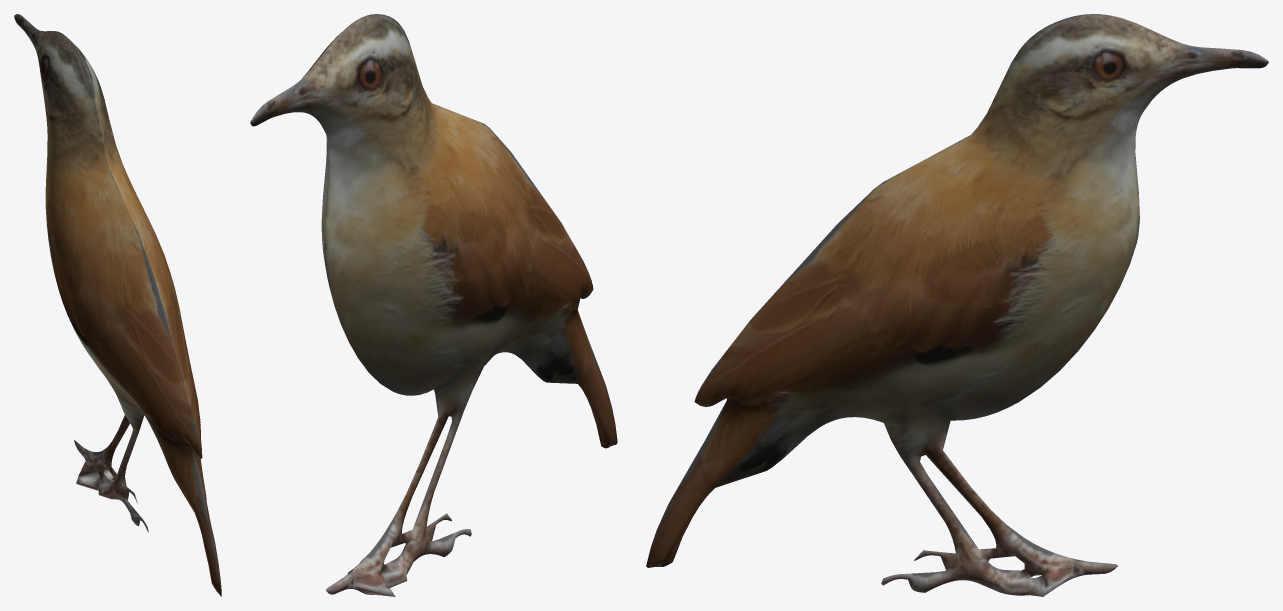
The model's file is 1200-removebg-preview.gltf.
3 views of the same model, side by side, from view 1: azimuth 30°, elevation 25°; view 2: azimuth 150°, elevation 25°; view 3: azimuth 270°, elevation 25° (orthographic). The views are drawn at different scales.
Parts seen in each view (by area): view 1: node1; view 2: node1; view 3: node1.
Part boxes in pixels (bbox=[...]): node1: bbox=[14, 14, 221, 596]; node1: bbox=[250, 14, 617, 596]; node1: bbox=[646, 14, 1268, 596].
Size of the model in its own units: 0.2693 by 1.22 by 1.2.
1 material, 1 textured.
